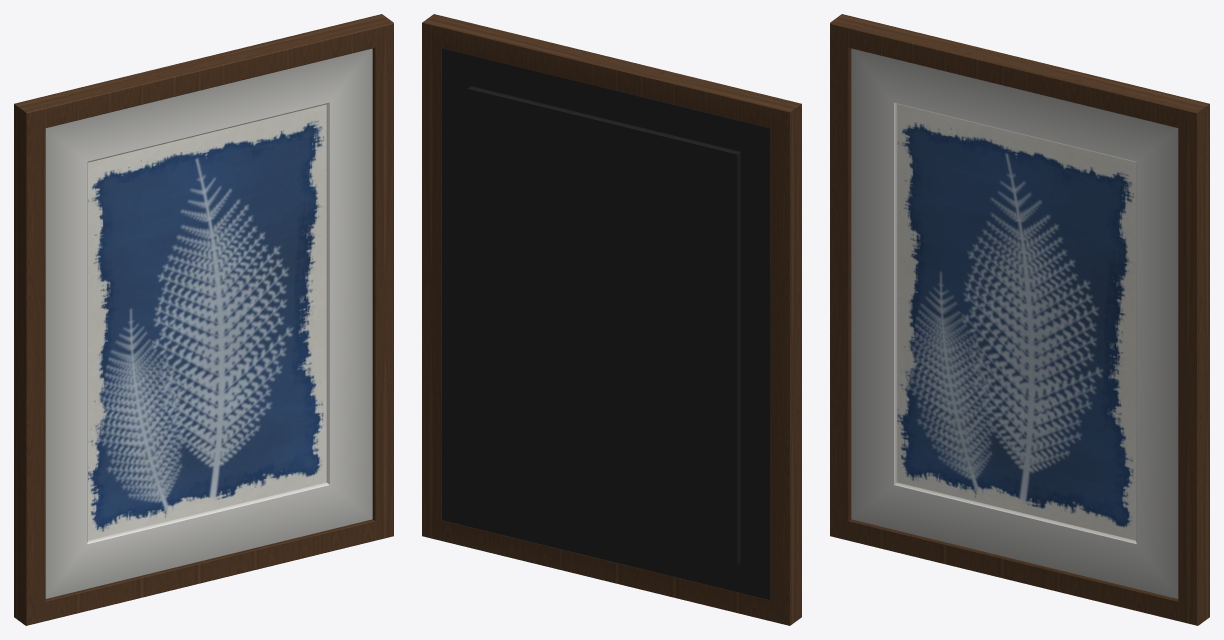
File: art_cyanotype_fern.gltf
3 renders of one model, left to right at view 1: azimuth 30°, elevation 25°; view 2: azimuth 150°, elevation 25°; view 3: azimuth 330°, elevation 25°, orthographic.
Parts seen in each view (by area): view 1: Art_CyanotypeFern_Art, Art_CyanotypeFern_Mat, Art_CyanotypeFern_Frame; view 2: Art_CyanotypeFern_Spacer, Art_CyanotypeFern_Frame, Art_CyanotypeFern_Backing; view 3: Art_CyanotypeFern_Art, Art_CyanotypeFern_Mat, Art_CyanotypeFern_Frame.
Part boxes in pixels (<box>): Art_CyanotypeFern_Art: <box>88,104,326,540</box>; Art_CyanotypeFern_Mat: <box>45,48,372,598</box>; Art_CyanotypeFern_Frame: <box>14,14,393,625</box>; Art_CyanotypeFern_Spacer: <box>467,86,740,565</box>; Art_CyanotypeFern_Frame: <box>422,14,801,625</box>; Art_CyanotypeFern_Backing: <box>442,48,770,600</box>; Art_CyanotypeFern_Art: <box>897,104,1135,540</box>; Art_CyanotypeFern_Mat: <box>851,48,1178,598</box>; Art_CyanotypeFern_Frame: <box>830,14,1209,625</box>.
Size of the model in its own units: 0.6 by 0.8 by 0.045.
5 materials, 2 textured.
